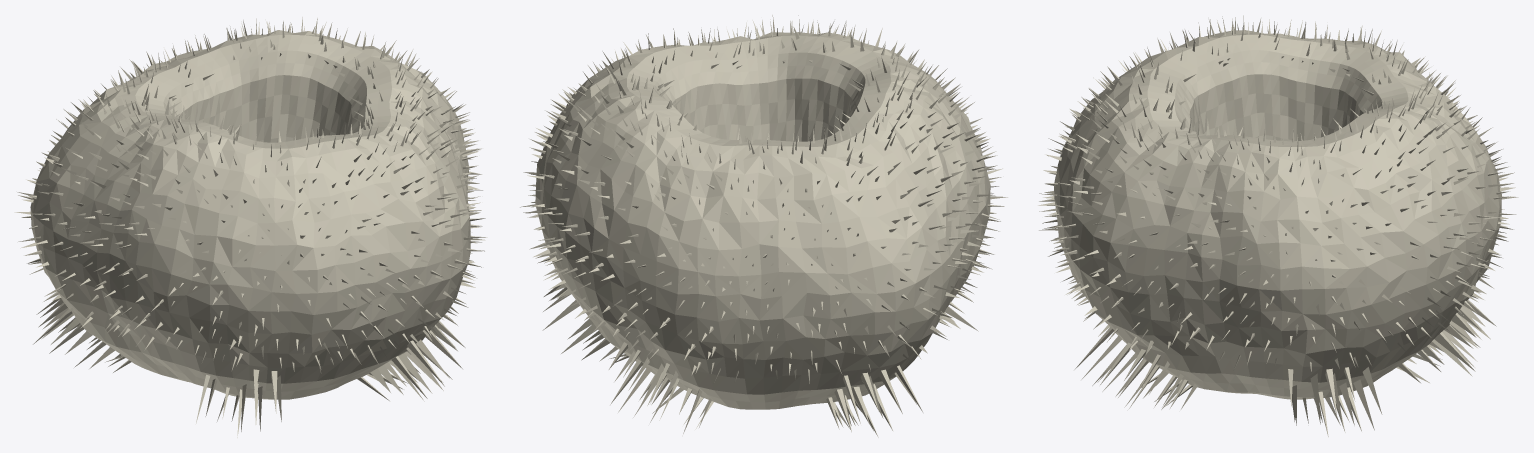
The picture shows the model from 3 angles, left to right: view 1: azimuth 30°, elevation 25°; view 2: azimuth 150°, elevation 25°; view 3: azimuth 270°, elevation 25°; orthographic projection. The views are drawn at different scales.
Visible parts, largest first — view 1: NEW647_Whole_living_glass_sponge; view 2: NEW647_Whole_living_glass_sponge; view 3: NEW647_Whole_living_glass_sponge.
Part boxes in pixels (box(x1,y1,x2,y2)): NEW647_Whole_living_glass_sponge: box(14, 17, 487, 437); NEW647_Whole_living_glass_sponge: box(520, 15, 1007, 437); NEW647_Whole_living_glass_sponge: box(1038, 15, 1518, 437).
Bounding box in the file's own units: 0.1666 × 0.112 × 0.1631.
